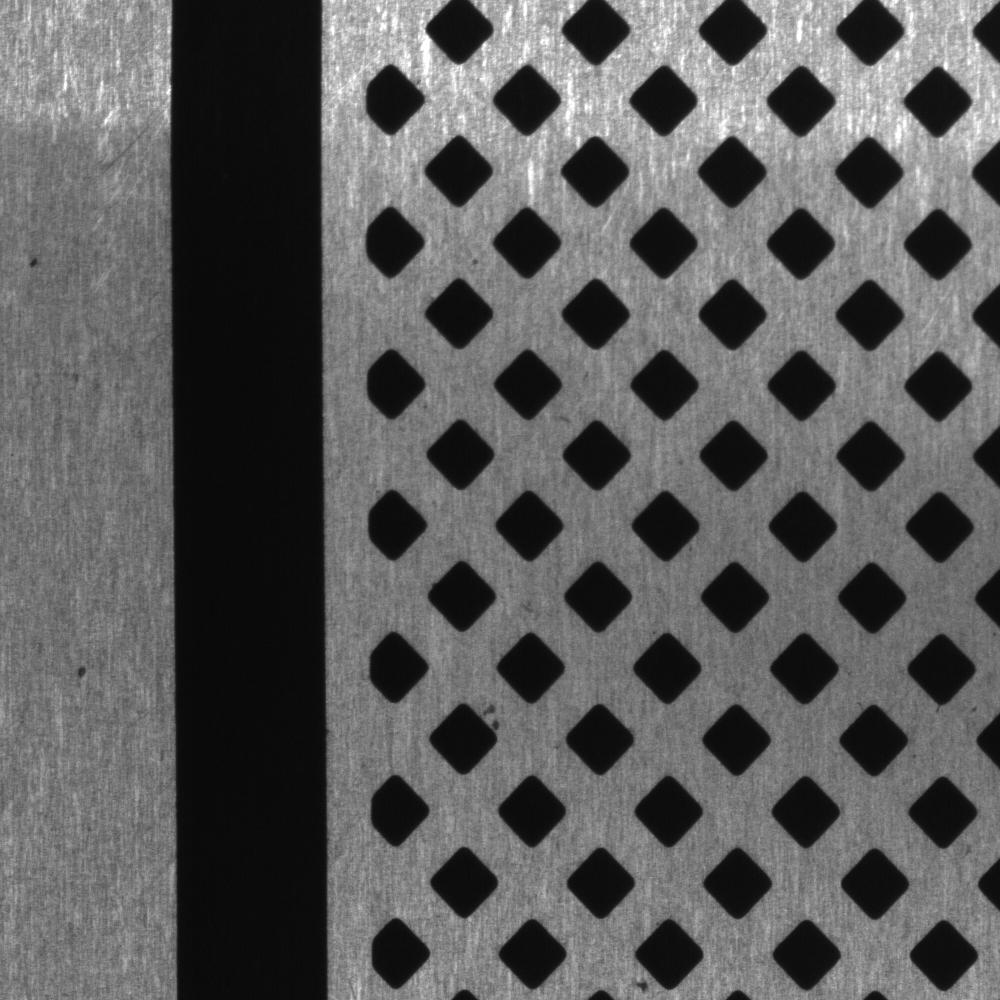Etching: (10, 233, 54, 284), (482, 699, 509, 732)
Pinhole: (64, 652, 104, 690)
Scar: (99, 98, 168, 180)
